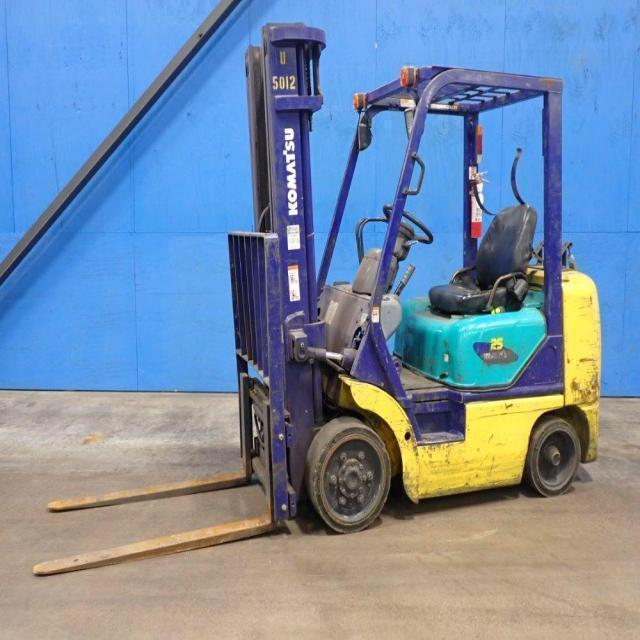forklift: (227, 22, 605, 539)
